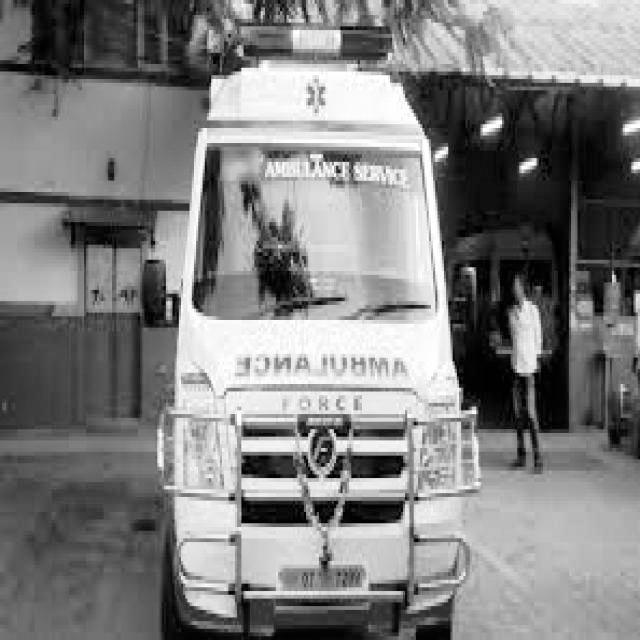LCV: (142, 17, 477, 632)
